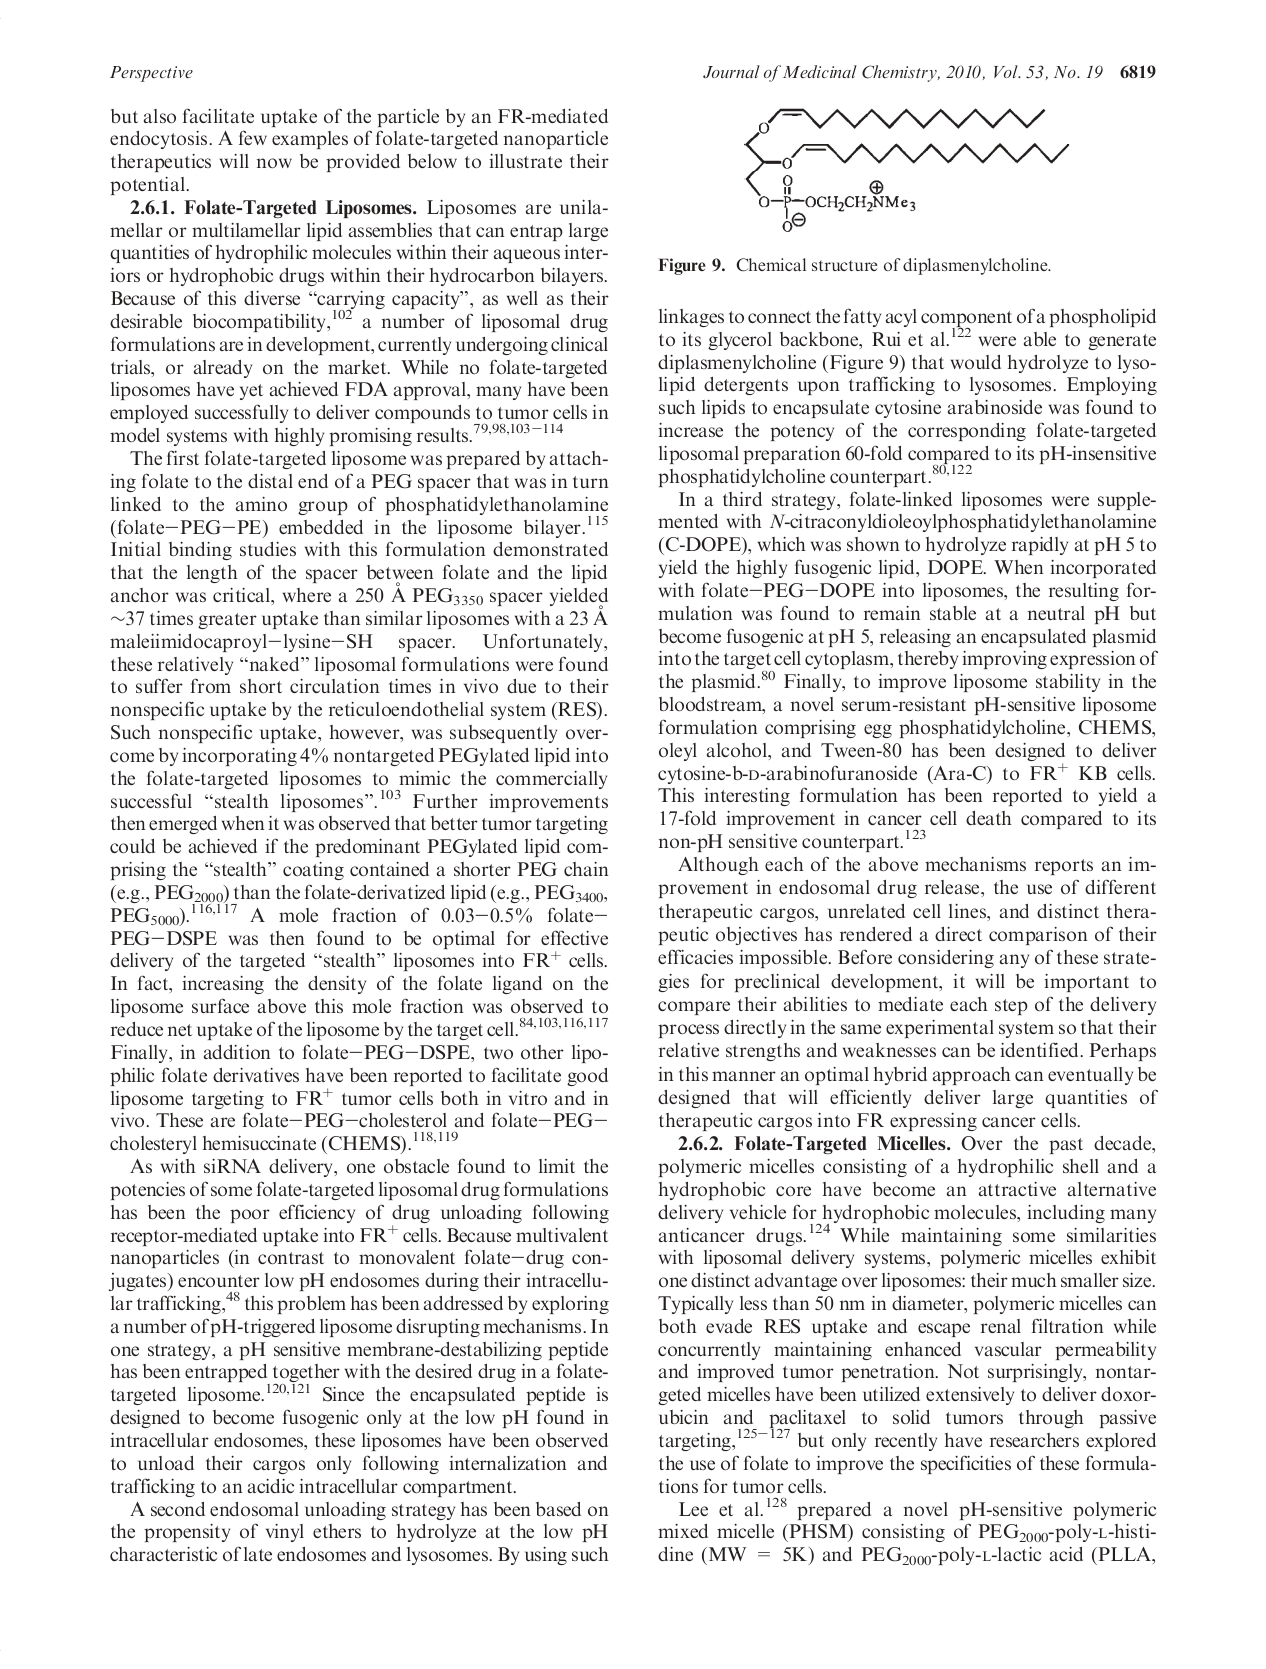exist_molecular: (742, 102, 1073, 235)
